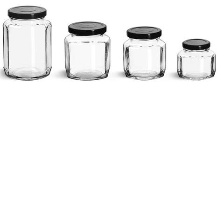bottle: (0, 0, 55, 84), (61, 18, 112, 84), (118, 22, 167, 81), (173, 34, 221, 80)
